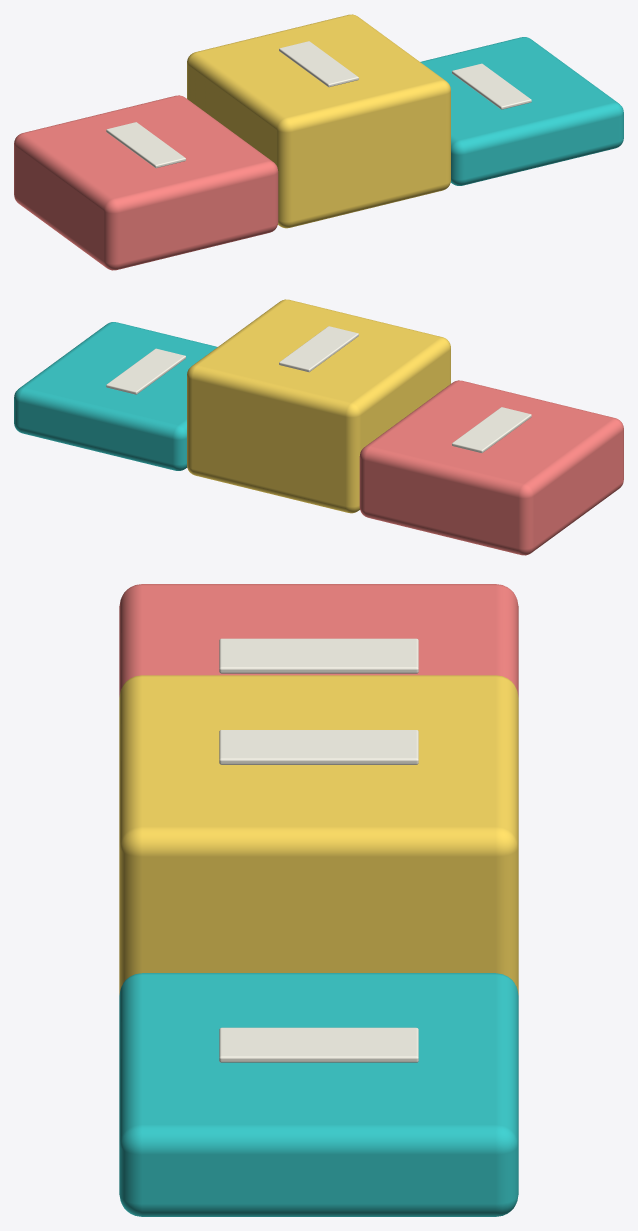
The model's file is party-obstacle-course-party-obstacle-course-celebratio-e1340d69.glb.
3 renders of one model, top to bottom at view 1: azimuth 30°, elevation 25°; view 2: azimuth 150°, elevation 25°; view 3: azimuth 270°, elevation 25°, orthographic. The views are drawn at different scales.
Visible parts, largest first — view 1: party-obstacle-course-celebration-podium; view 2: party-obstacle-course-celebration-podium; view 3: party-obstacle-course-celebration-podium.
Boxes of the visible parts, x1,y1,x2,y2 form: party-obstacle-course-celebration-podium: [14, 14, 623, 270]; party-obstacle-course-celebration-podium: [14, 299, 623, 555]; party-obstacle-course-celebration-podium: [119, 584, 518, 1216].
Size of the model in its own units: 4.2 by 0.88 by 1.4.
